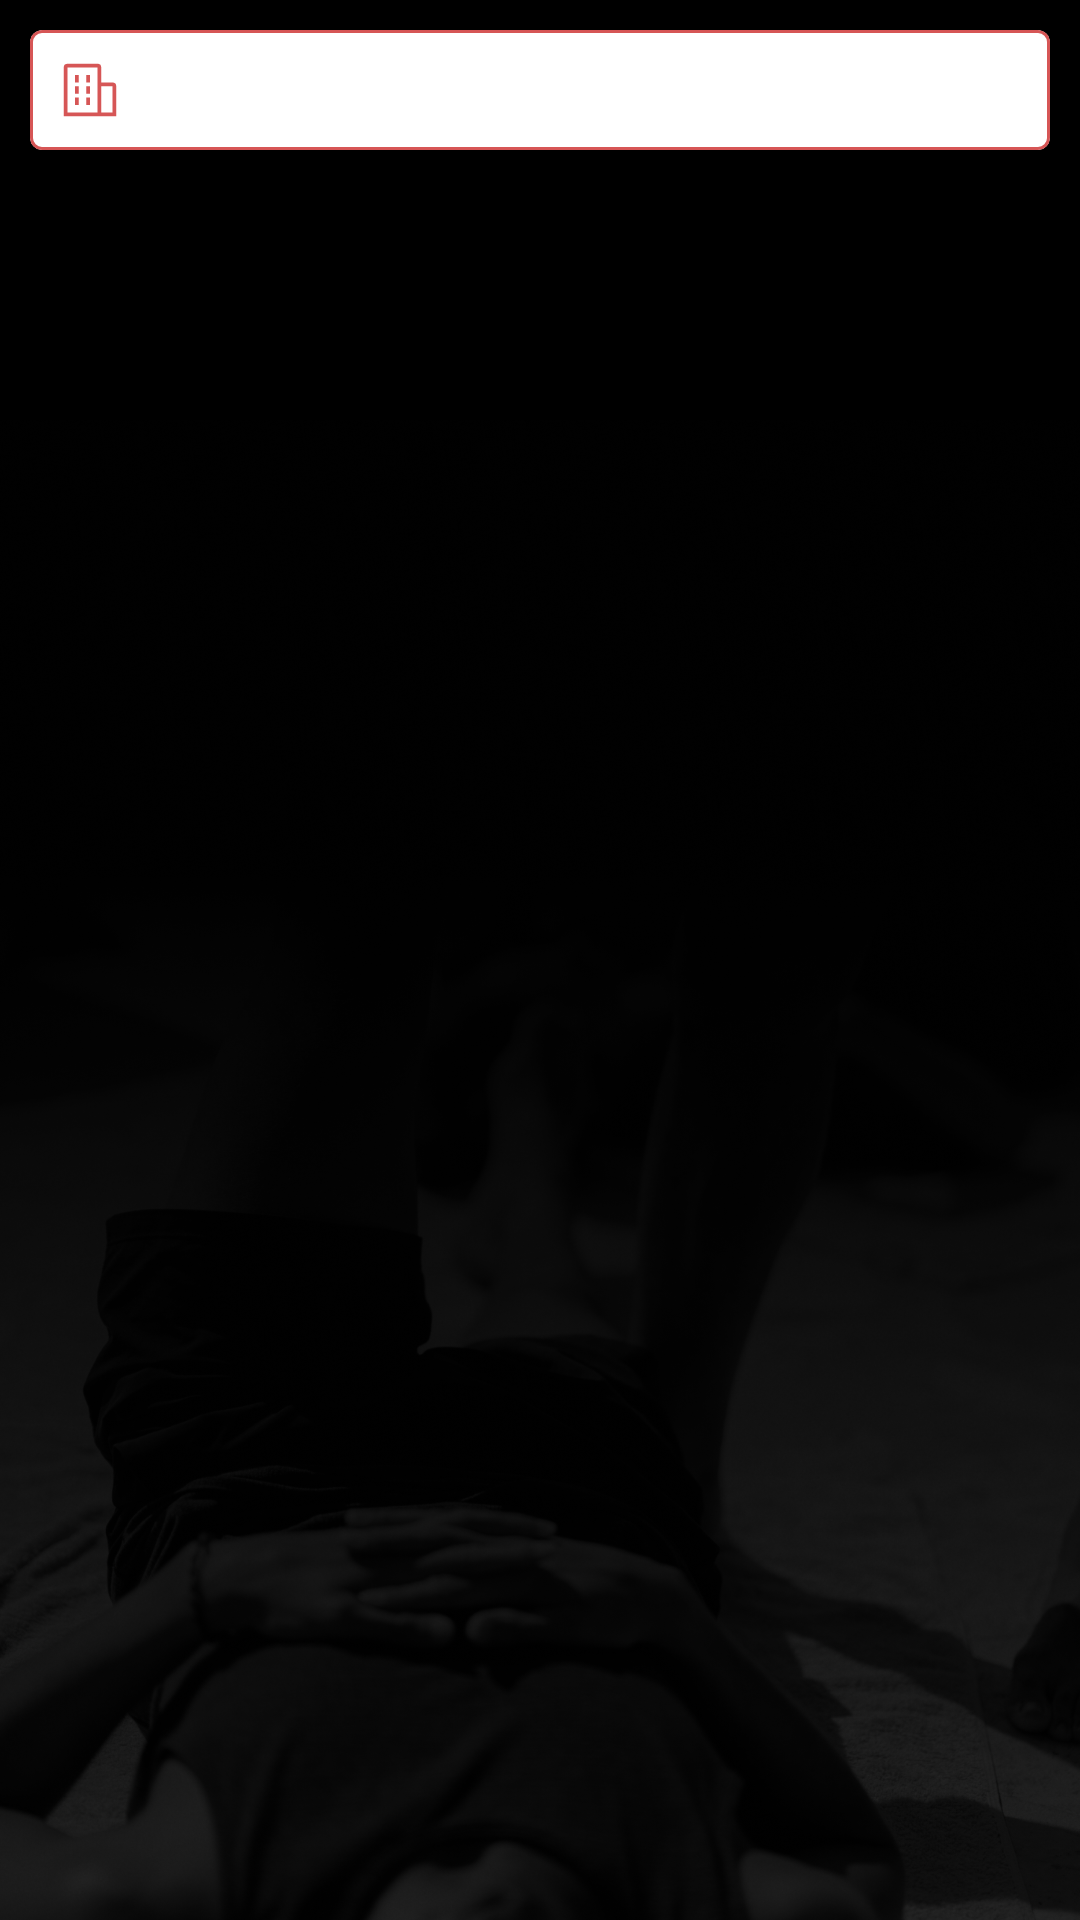

Icon click points for this 1080 × 1920 phone screenshot, format point (x, y):
enterprise: point (90, 90)
